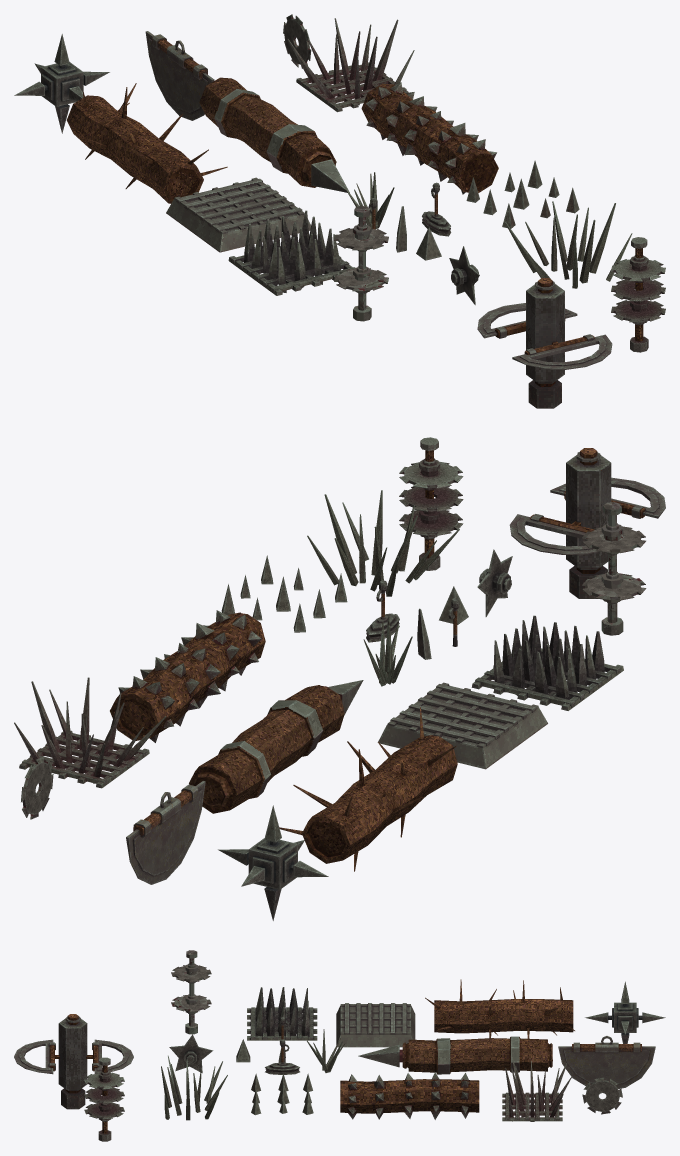
The model's file is Traps.glb.
3 views of the same model, one above another, from view 1: azimuth 30°, elevation 25°; view 2: azimuth 150°, elevation 25°; view 3: azimuth 270°, elevation 25° (orthographic). The views are drawn at different scales.
Visible parts, largest first — view 1: Log_Spiked_Variant3, Log_Spiked_Variant2, Log_Spiked_Variant1, Blades_Rotating, Base, Spikes_2, Spikes_3, Trap_SpinningBlade_Upgraded_Variant_2, Blade_Guillotine, Spikes_1, Trap_SpinningBlade_Upgraded_Variant_1, Stone_Ball_Spiked (+4 smaller); view 2: Log_Spiked_Variant1, Log_Spiked_Variant2, Log_Spiked_Variant3, Base, Blades_Rotating, Spikes_2, Spikes_3, Blade_Guillotine, Trap_SpinningBlade_Upgraded_Variant_2, Trap_SpinningBlade_Upgraded_Variant_1, Spikes_1, Stone_Ball_Spiked (+4 smaller); view 3: Log_Spiked_Variant3, Log_Spiked_Variant2, Log_Spiked_Variant1, Blades_Rotating, Blade_Guillotine, Base, Spikes_2, Spikes_3, Trap_SpinningBlade_Upgraded_Variant_2, Trap_SpinningBlade_Upgraded_Variant_1, Spikes_1, Stone_Ball_Spiked (+5 smaller).
Boxes of the visible parts, left/top/right/bottom form: Log_Spiked_Variant3: left=199, top=77, right=349, bottom=192; Log_Spiked_Variant2: left=361, top=82, right=498, bottom=194; Log_Spiked_Variant1: left=66, top=83, right=227, bottom=203; Blades_Rotating: left=477, top=278, right=612, bottom=408; Base: left=166, top=177, right=311, bottom=252; Spikes_2: left=228, top=210, right=355, bottom=295; Spikes_3: left=287, top=18, right=414, bottom=112; Trap_SpinningBlade_Upgraded_Variant_2: left=611, top=237, right=665, bottom=352; Blade_Guillotine: left=145, top=31, right=214, bottom=120; Spikes_1: left=505, top=201, right=632, bottom=288; Trap_SpinningBlade_Upgraded_Variant_1: left=334, top=206, right=388, bottom=321; Stone_Ball_Spiked: left=14, top=34, right=109, bottom=133; Log_Spiked_Variant1: left=279, top=707, right=457, bottom=871; Log_Spiked_Variant2: left=110, top=610, right=265, bottom=742; Log_Spiked_Variant3: left=189, top=680, right=363, bottom=813; Base: left=377, top=682, right=547, bottom=769; Blades_Rotating: left=509, top=448, right=665, bottom=598; Spikes_2: left=471, top=615, right=623, bottom=710; Spikes_3: left=14, top=677, right=166, bottom=788; Blade_Guillotine: left=126, top=781, right=205, bottom=884; Trap_SpinningBlade_Upgraded_Variant_2: left=399, top=437, right=463, bottom=570; Trap_SpinningBlade_Upgraded_Variant_1: left=582, top=502, right=646, bottom=635; Spikes_1: left=307, top=490, right=459, bottom=596; Stone_Ball_Spiked: left=218, top=805, right=328, bottom=920; Log_Spiked_Variant3: left=358, top=1036, right=552, bottom=1074; Log_Spiked_Variant2: left=340, top=1072, right=479, bottom=1119; Log_Spiked_Variant1: left=425, top=979, right=574, bottom=1038; Blades_Rotating: left=14, top=1014, right=133, bottom=1109; Blade_Guillotine: left=558, top=1036, right=655, bottom=1088; Base: left=336, top=1003, right=415, bottom=1047; Spikes_2: left=247, top=987, right=317, bottom=1040; Spikes_3: left=502, top=1057, right=571, bottom=1121; Trap_SpinningBlade_Upgraded_Variant_2: left=84, top=1057, right=124, bottom=1141; Trap_SpinningBlade_Upgraded_Variant_1: left=171, top=950, right=211, bottom=1034; Spikes_1: left=161, top=1055, right=227, bottom=1120; Stone_Ball_Spiked: left=585, top=981, right=665, bottom=1043.
Size of the model in its own units: 11.74 by 5.49 by 27.99.
20 materials, 20 textured.
